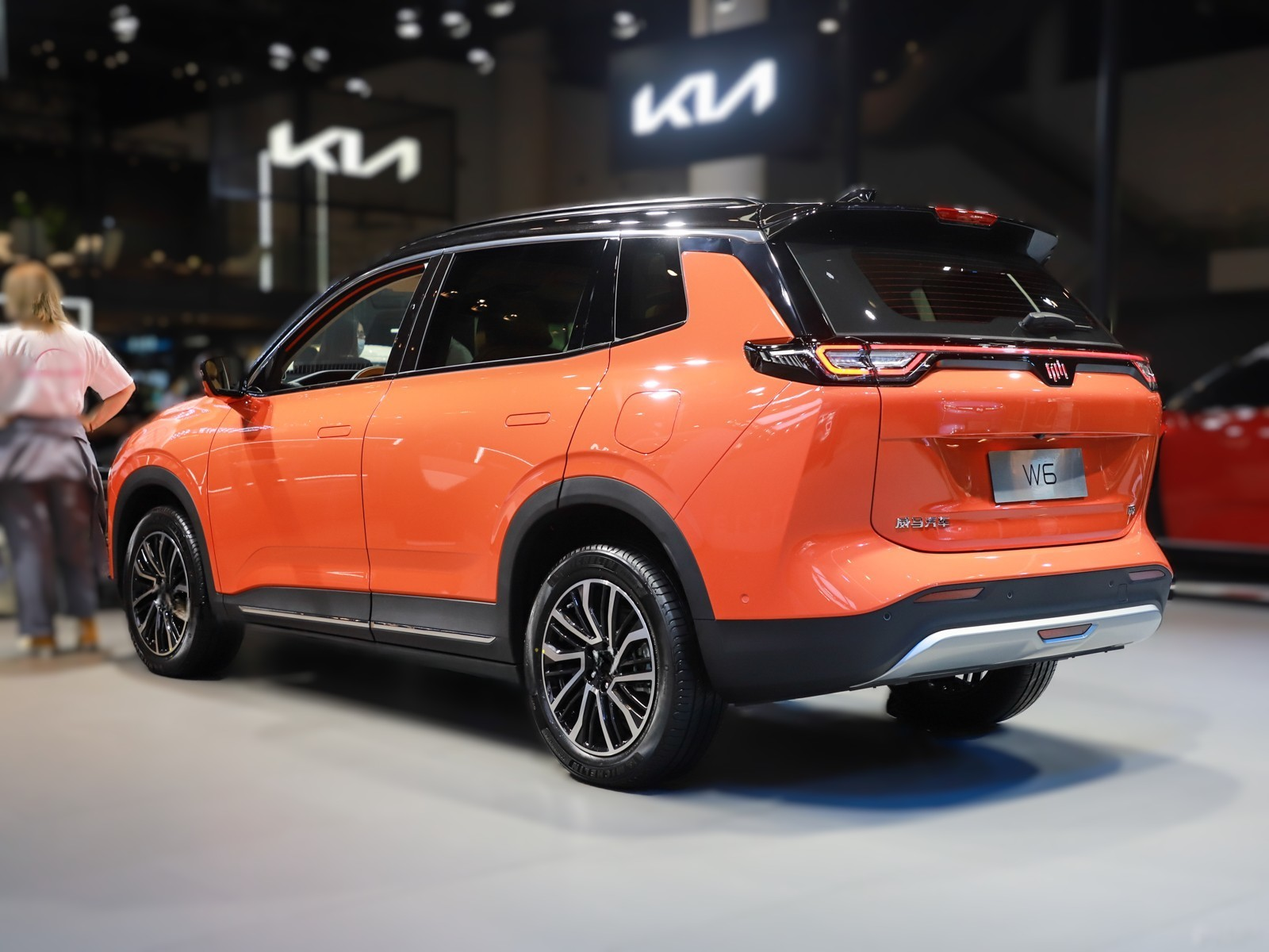WELTMEISTER: (1046, 361, 1068, 381)
